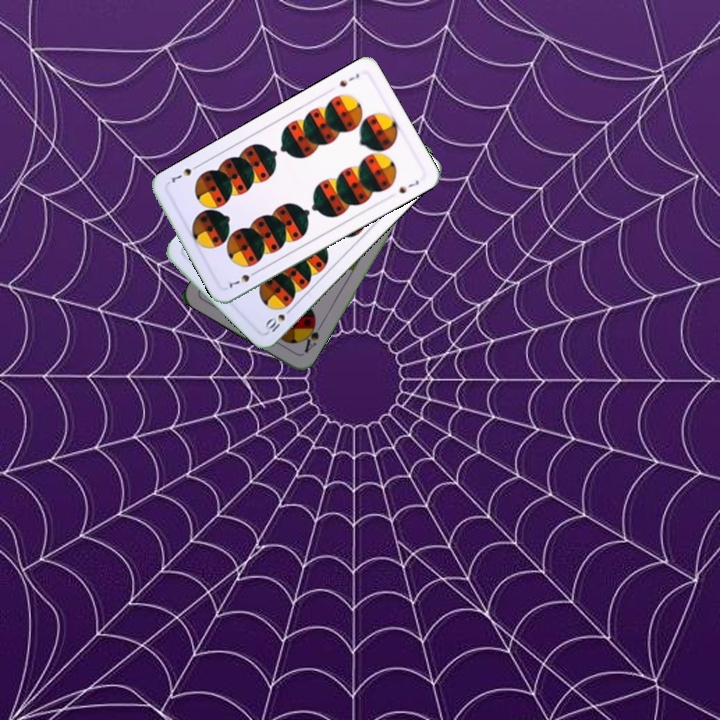S10: (261, 303, 295, 335)
S7: (223, 266, 261, 292), (335, 69, 362, 90)
SA: (299, 317, 325, 356)
